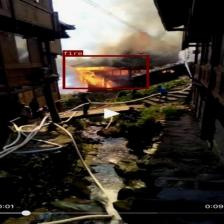fire: (62, 55, 148, 89)
